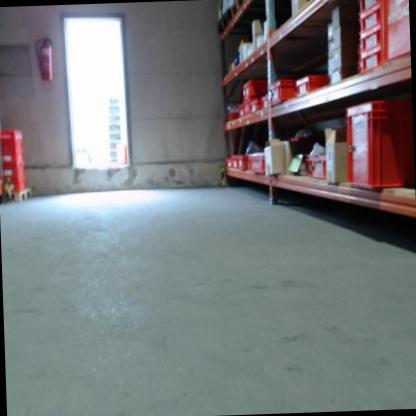pallet: (216, 8, 231, 35), (6, 188, 33, 203), (230, 0, 248, 19)
small_load_carrier: (344, 98, 414, 191), (381, 0, 409, 71), (266, 75, 299, 110), (295, 73, 326, 101), (358, 2, 383, 34), (356, 47, 385, 74), (302, 154, 327, 184), (357, 29, 384, 54), (246, 153, 270, 175), (240, 78, 265, 97), (0, 128, 27, 144), (355, 0, 382, 14), (2, 166, 28, 180), (1, 143, 26, 155), (8, 179, 29, 192), (235, 154, 248, 174), (3, 155, 24, 167), (242, 101, 255, 117), (262, 93, 272, 112), (252, 99, 261, 114), (238, 104, 245, 118), (231, 154, 237, 170), (225, 159, 233, 169)
